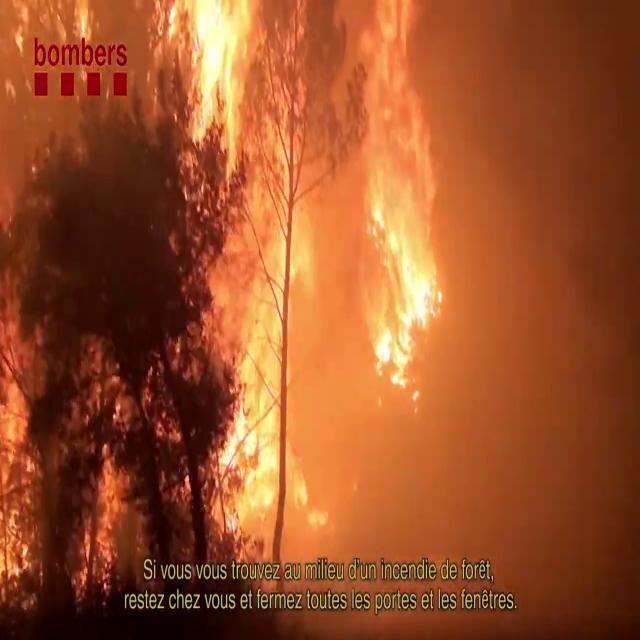Fire: (181, 3, 343, 549), (354, 5, 456, 400)
Smoke: (425, 2, 640, 602), (0, 0, 179, 295)
